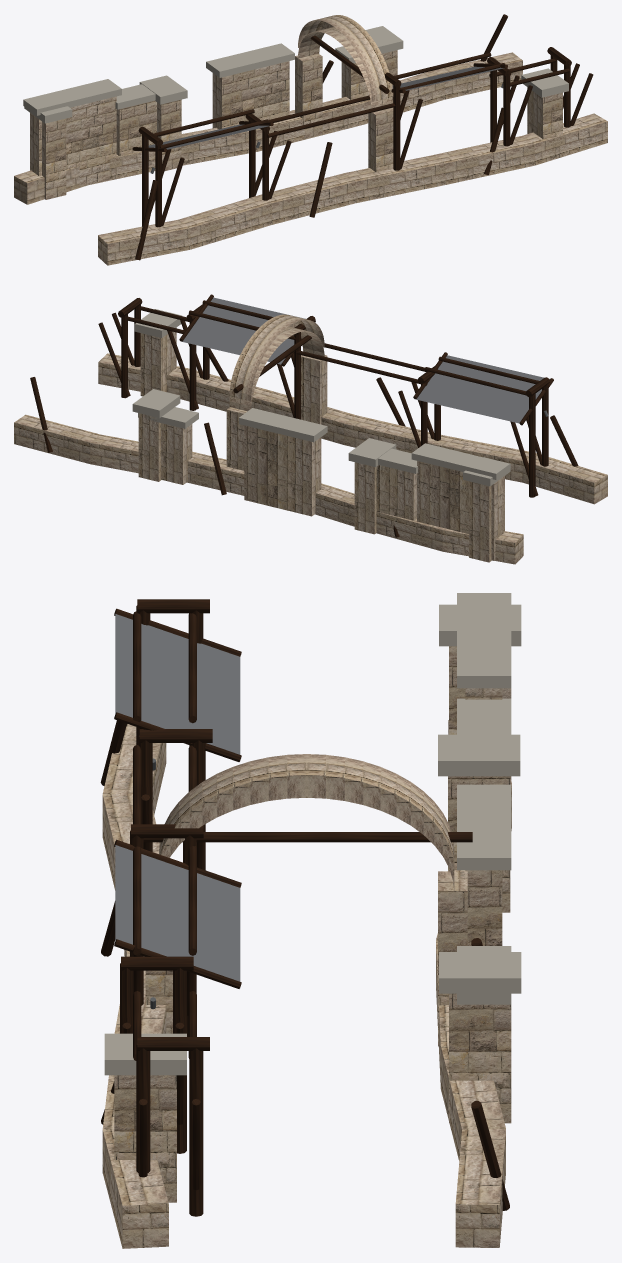
Rendered from ConnectedPrecinctV16.glb.
3 views of the same model, one above another, from view 1: azimuth 30°, elevation 25°; view 2: azimuth 150°, elevation 25°; view 3: azimuth 270°, elevation 25° (orthographic). The views are drawn at different scales.
Visible parts, largest first — view 1: Eldoria / single connected reconstructed street block v16; view 2: Eldoria / single connected reconstructed street block v16; view 3: Eldoria / single connected reconstructed street block v16.
Part boxes in pixels (x1,y1,x2,y2): Eldoria / single connected reconstructed street block v16: (14, 14, 607, 265); Eldoria / single connected reconstructed street block v16: (14, 294, 607, 564); Eldoria / single connected reconstructed street block v16: (100, 593, 521, 1248).
Size of the model in its own units: 23.31 by 6.1 by 8.49.
Materials: 5 (2 with a texture image).
